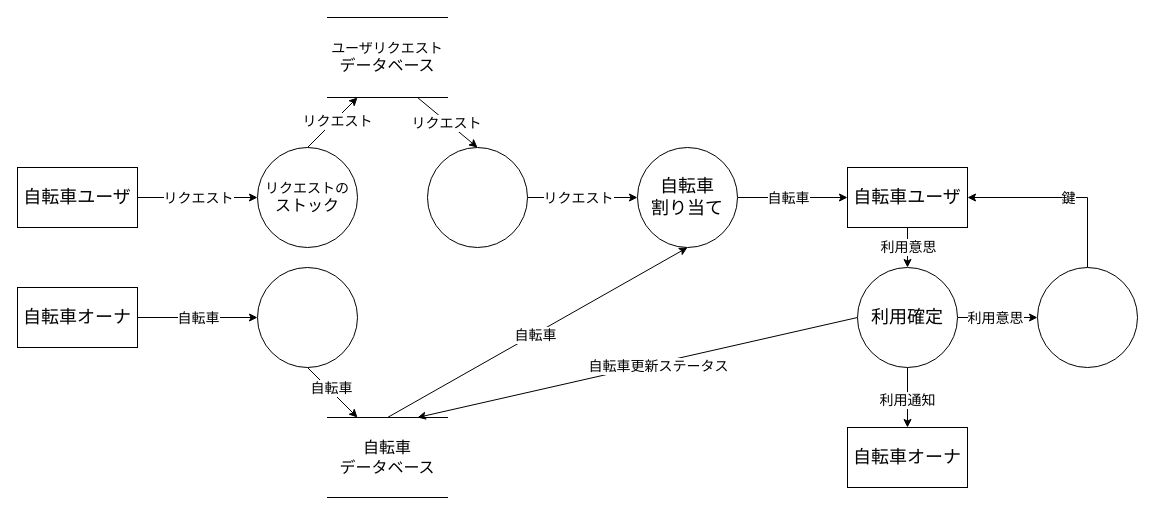
Some shapes in this 1155 by 515 pixel diagram are drawn without their labels. The shapes that lost their labels are listed below. From the top down, each one's centre as x and y in pixels, then its label:
the point at 477,197: リクエスト バッチの取得
the point at 307,317: 自転車 登録
the point at 1087,317: スマートロック 認証
